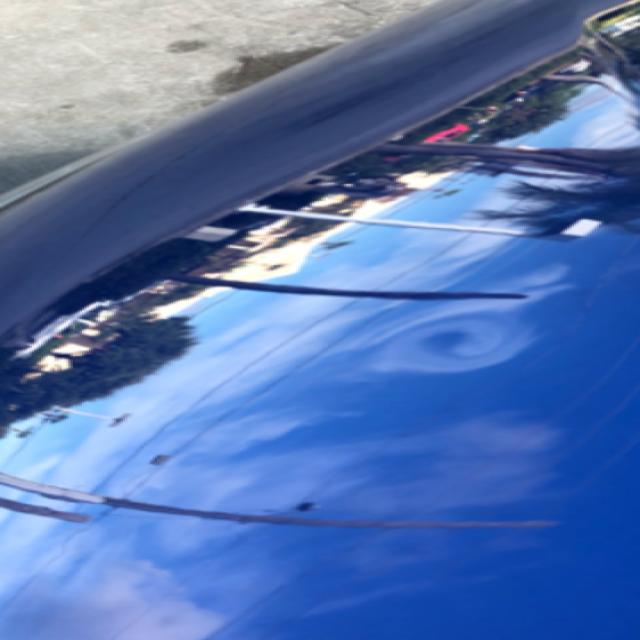dents: (389, 308, 617, 381)
